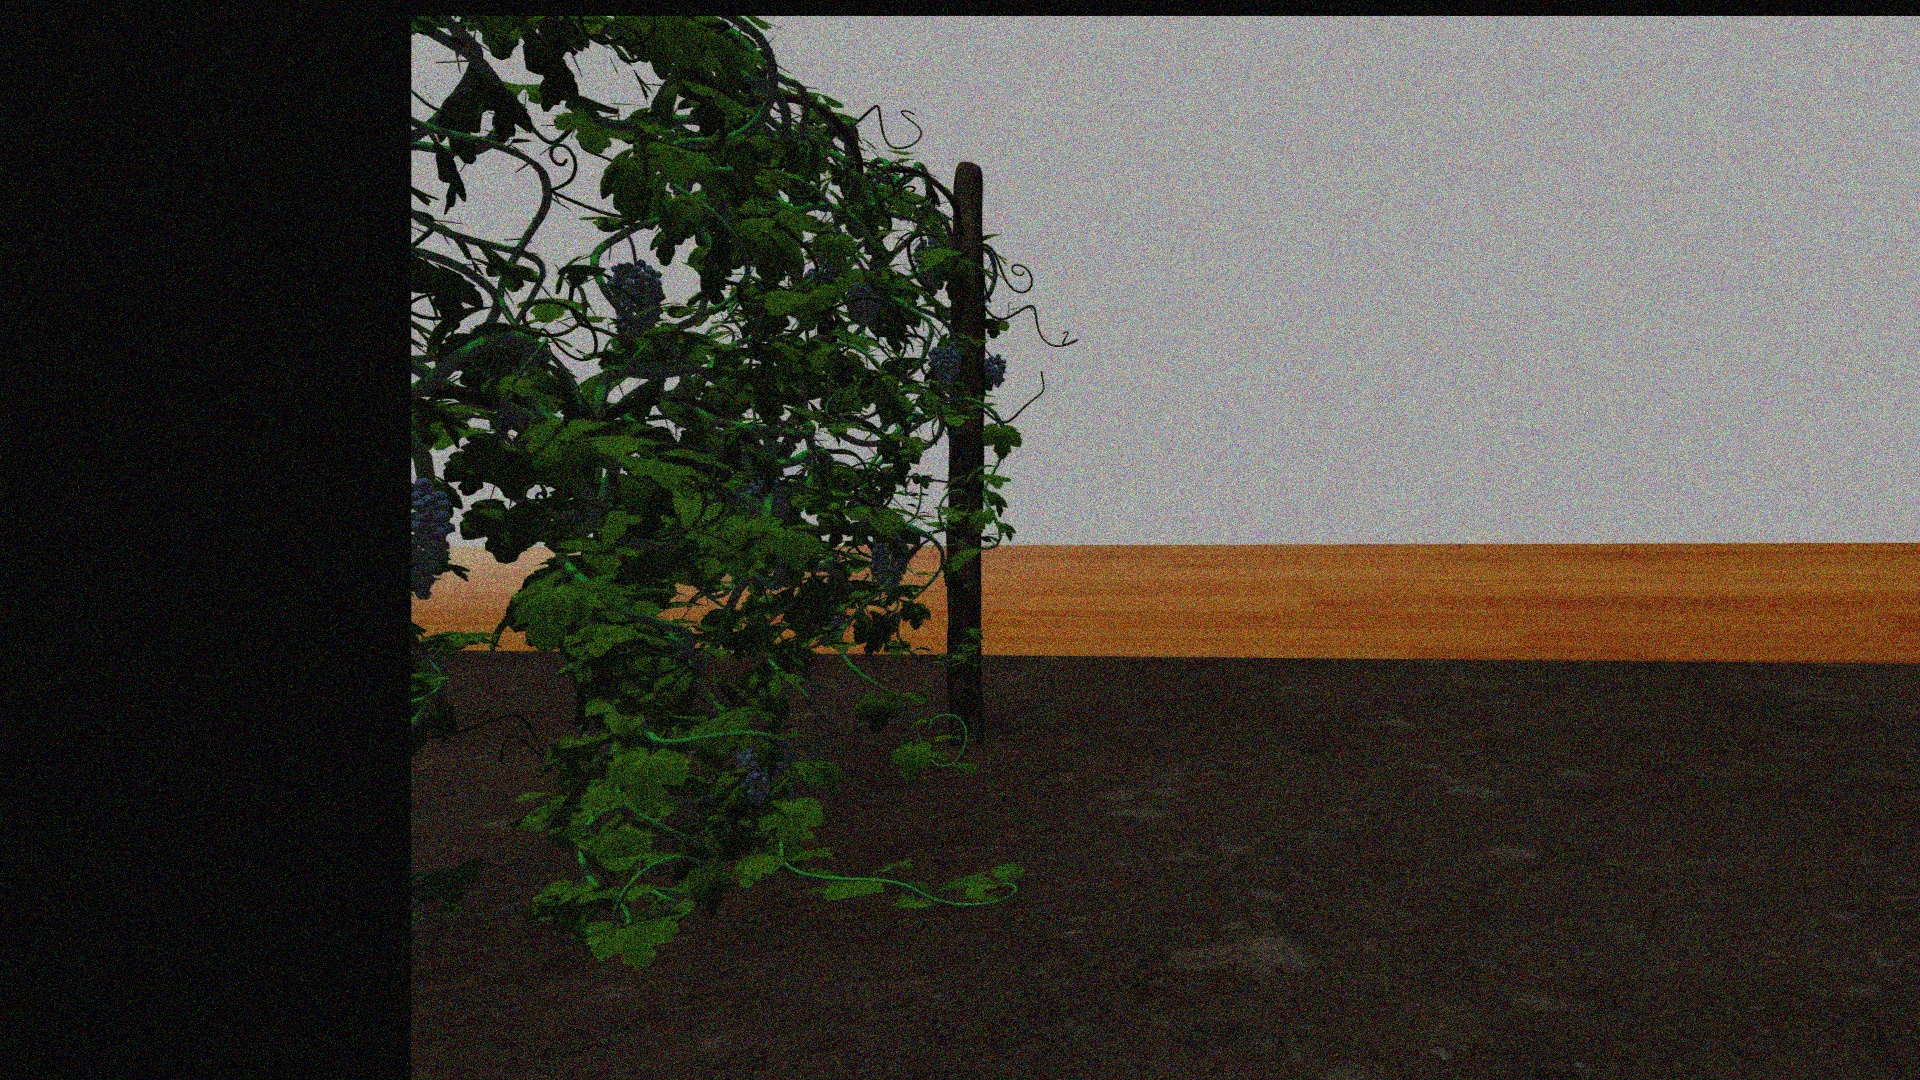grape: (608, 258, 665, 339), (417, 475, 452, 600), (736, 741, 789, 804), (870, 538, 909, 589), (927, 335, 961, 390), (847, 284, 880, 324), (984, 351, 1007, 392)
